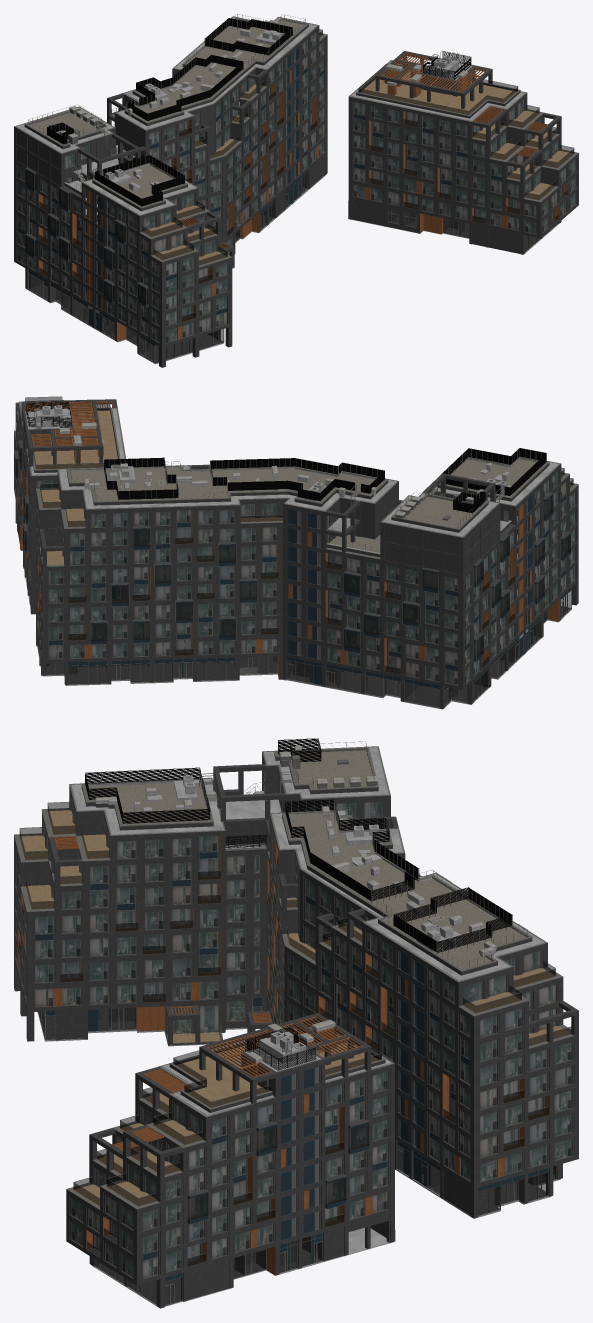
The model's file is B10_Building_(optimized + centered).glb.
3 renders of one model, top to bottom at view 1: azimuth 30°, elevation 25°; view 2: azimuth 150°, elevation 25°; view 3: azimuth 270°, elevation 25°, orthographic. The views are drawn at different scales.
Visible parts, largest first — view 1: SM_B10_Fasade_012_1, SM_B10_Fasade_005_1, SM_B10_Fasade_001_1, SM_B10_Fasade_005_2, SM_B10_Fasade_012_2, SM_B10_Fasade_001_2, SM_B10_Fasade_010_1, SM_B10_Fasade_001_3, SM_B10_Fasade_006_1, SM_B10_Fasade_012_5, SM_B10_Fasade_010_2, SM_B10_Roof_002_8 (+39 smaller); view 2: SM_B10_Fasade_008_1, SM_B10_Fasade_008_2, SM_B10_Fasade_009_1, SM_B10_Fasade_001_1, SM_B10_Fasade_008_3, SM_B10_Fasade_009_2, SM_B10_Interior_fl1, SM_B10_Fasade_008_5, SM_B10_Fasade_009_3, SM_B10_Roof_002_7, SM_B10_Fasade_001_2, SM_B10_Roof_002_8 (+39 smaller); view 3: SM_B10_Fasade_011_1, SM_B10_Fasade_003_1, SM_B10_Fasade_012_1, SM_B10_Fasade_011_2, SM_B10_Fasade_003_2, SM_B10_Fasade_007_1, SM_B10_Fasade_012_2, SM_B10_Fasade_007_2, SM_B10_Roof_002_7, SM_B10_Fasade_006_1, SM_B10_Fasade_003_3, SM_B10_Roof_002_8 (+50 smaller).
Part boxes in pixels (box(x1,y1,x2,y2)): SM_B10_Fasade_012_1: box(145, 25, 327, 267); SM_B10_Fasade_005_1: box(348, 97, 540, 254); SM_B10_Fasade_001_1: box(14, 127, 161, 367); SM_B10_Fasade_005_2: box(354, 102, 536, 233); SM_B10_Fasade_012_2: box(149, 32, 324, 253); SM_B10_Fasade_001_2: box(18, 166, 159, 341); SM_B10_Fasade_010_1: box(139, 188, 232, 367); SM_B10_Fasade_001_3: box(18, 170, 155, 362); SM_B10_Fasade_006_1: box(471, 93, 578, 253); SM_B10_Fasade_012_5: box(149, 32, 324, 253); SM_B10_Fasade_010_2: box(143, 193, 226, 342); SM_B10_Roof_002_8: box(127, 18, 292, 120); SM_B10_Fasade_008_1: box(43, 498, 289, 685); SM_B10_Fasade_008_2: box(49, 503, 276, 658); SM_B10_Fasade_009_1: box(282, 504, 463, 708); SM_B10_Fasade_001_1: box(463, 464, 578, 704); SM_B10_Fasade_008_3: box(59, 515, 282, 684); SM_B10_Fasade_009_2: box(328, 553, 457, 683); SM_B10_Interior_fl1: box(46, 596, 569, 706); SM_B10_Fasade_008_5: box(48, 503, 282, 684); SM_B10_Fasade_009_3: box(287, 561, 467, 707); SM_B10_Roof_002_7: box(69, 468, 383, 552); SM_B10_Fasade_001_2: box(465, 472, 574, 682); SM_B10_Roof_002_8: box(104, 457, 384, 500); SM_B10_Fasade_011_1: box(27, 831, 266, 1045); SM_B10_Fasade_003_1: box(137, 1058, 395, 1308); SM_B10_Fasade_012_1: box(247, 813, 473, 1217); SM_B10_Fasade_011_2: box(35, 835, 258, 1033); SM_B10_Fasade_003_2: box(143, 1072, 387, 1278); SM_B10_Fasade_007_1: box(458, 943, 578, 1217); SM_B10_Fasade_012_2: box(269, 838, 470, 1179); SM_B10_Fasade_007_2: box(464, 951, 571, 1181); SM_B10_Roof_002_7: box(285, 813, 526, 969); SM_B10_Fasade_006_1: box(66, 1066, 205, 1306); SM_B10_Fasade_003_3: box(153, 1081, 387, 1305); SM_B10_Roof_002_8: box(285, 799, 511, 952).
Bounding box in the file's own units: 105 × 35.02 × 73.46.
26 materials, 22 textured.
